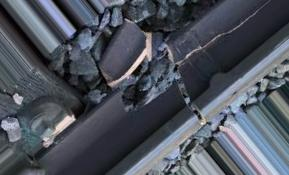tracks_fault: (110, 26, 223, 142)
